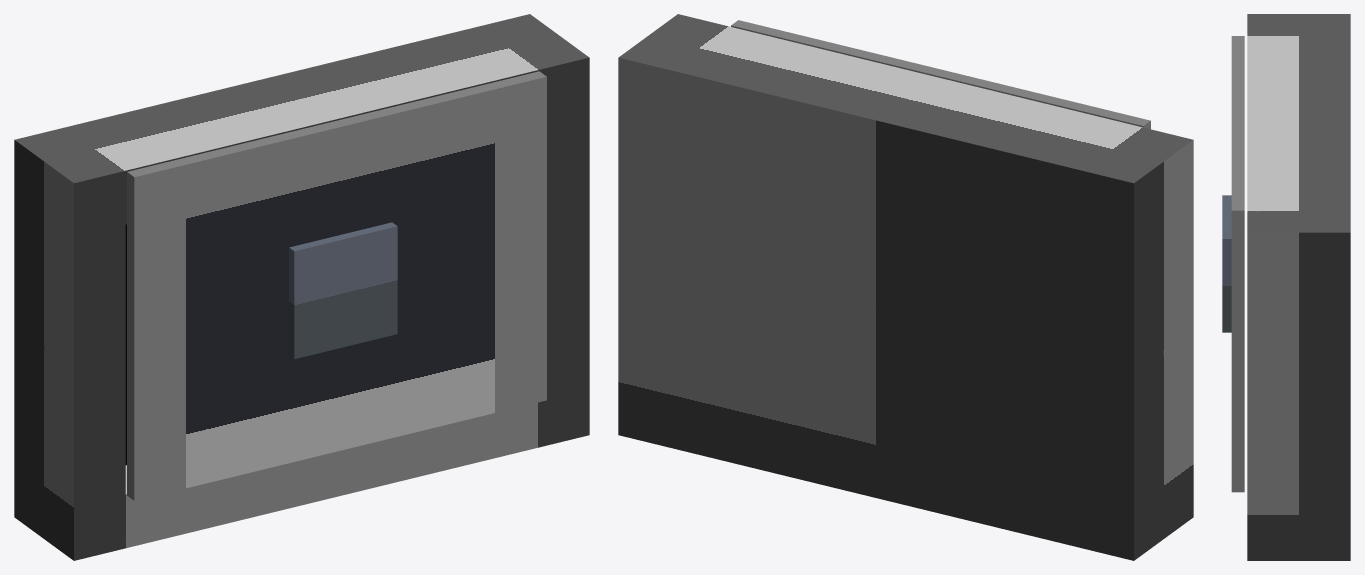
The model's file is door_button_nopower.glb.
3 views of the same model, side by side, from view 1: azimuth 30°, elevation 25°; view 2: azimuth 150°, elevation 25°; view 3: azimuth 270°, elevation 25° (orthographic). The views are drawn at different scales.
Parts seen in each view (by area): view 1: Service_Cover, Continuous_Housing, Push_Button; view 2: Continuous_Housing, Service_Cover; view 3: Continuous_Housing, Service_Cover, Push_Button.
Boxes of the visible parts, box(x1,y1,x2,y2) form: Service_Cover: box(127, 71, 546, 500); Continuous_Housing: box(14, 14, 589, 560); Push_Button: box(289, 222, 397, 359); Continuous_Housing: box(618, 14, 1193, 560); Service_Cover: box(731, 20, 1150, 129); Continuous_Housing: box(1247, 14, 1350, 560); Service_Cover: box(1231, 36, 1244, 492); Push_Button: box(1222, 195, 1231, 332).
Bounding box in the file's own units: 0.2812 × 0.1969 × 0.0698.
1 material, 1 textured.
